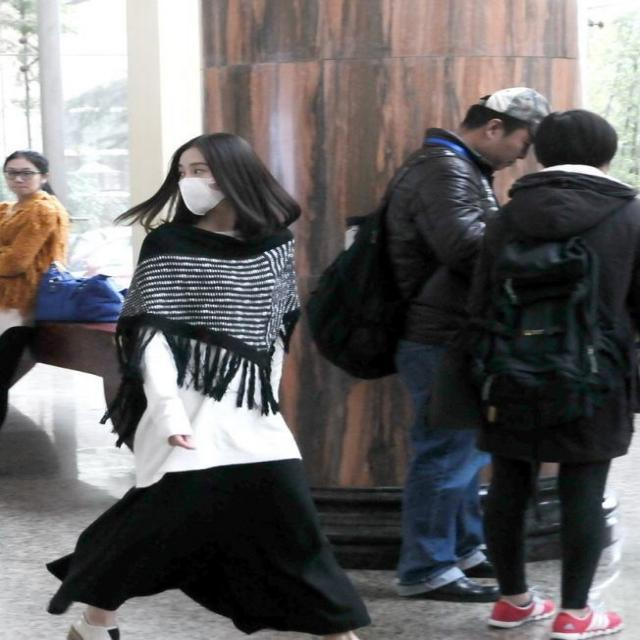mask: (172, 144, 227, 214)
nomask: (491, 123, 536, 169), (5, 159, 38, 196)
